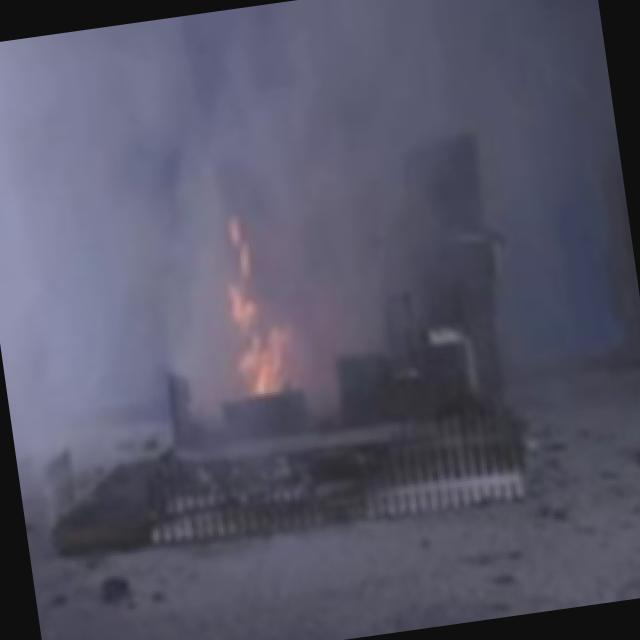fire: (188, 195, 325, 414)
smoke: (0, 0, 478, 293)
